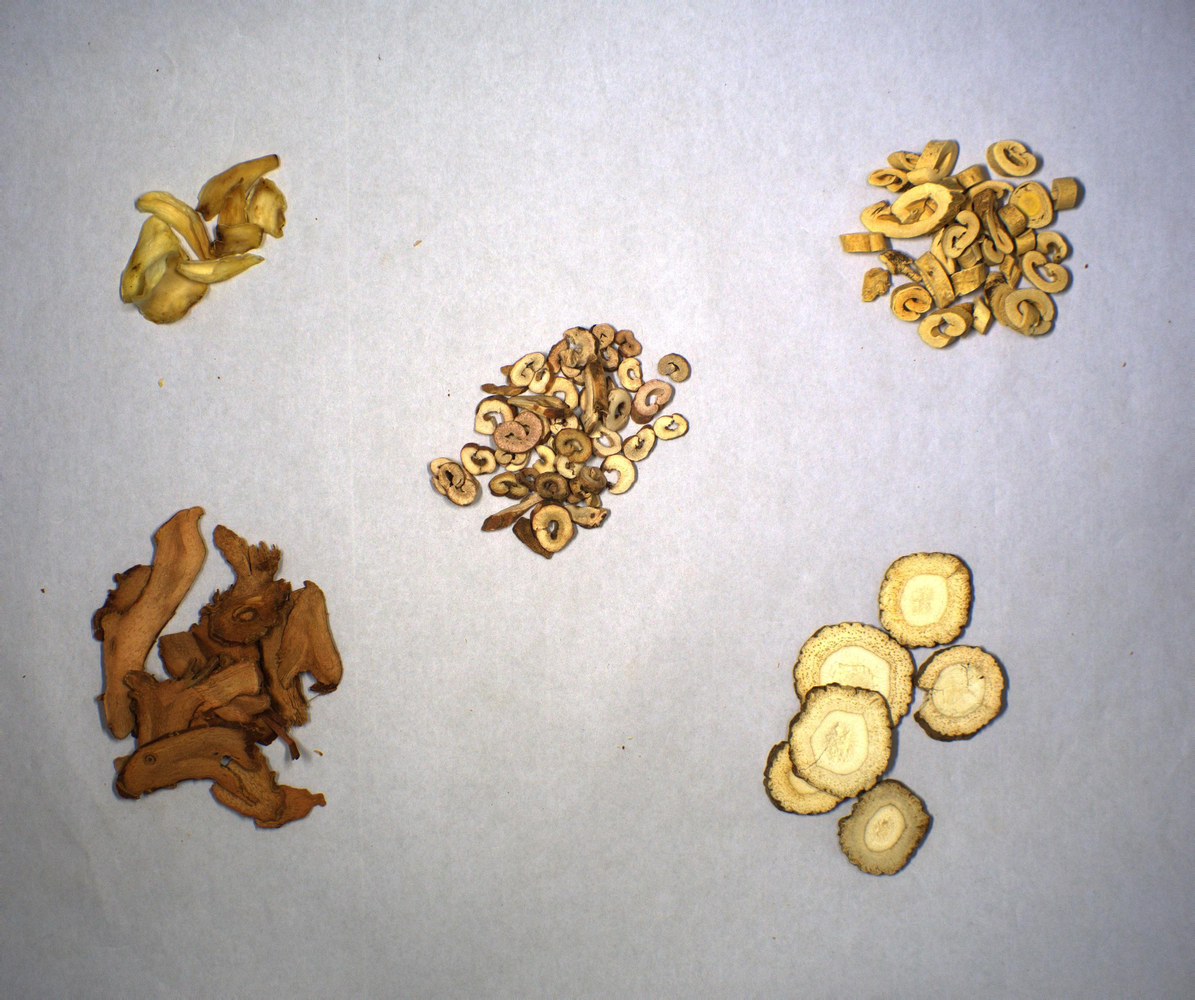baihe: (112, 154, 288, 327)
baixianpi: (836, 137, 1086, 354)
baizhi: (756, 557, 1008, 881)
gaoliangjiang: (89, 505, 343, 830)
mudanpi: (425, 327, 693, 562)
